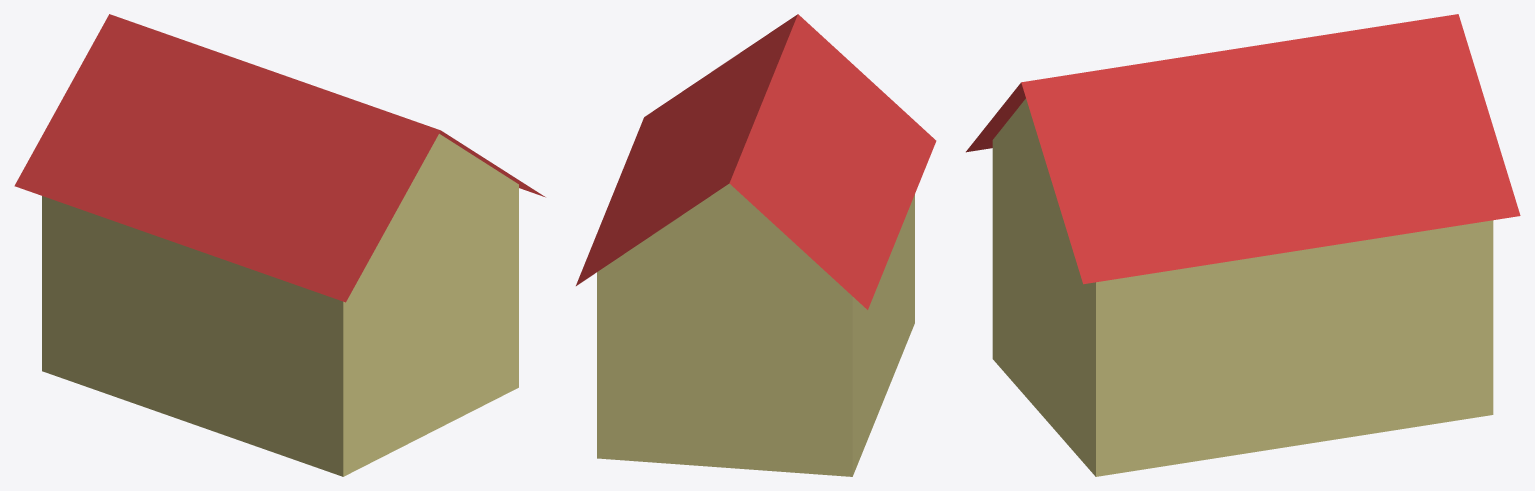
3 renders of one model, left to right at view 1: azimuth 30°, elevation 25°; view 2: azimuth 150°, elevation 25°; view 3: azimuth 270°, elevation 25°, orthographic. The views are drawn at different scales.
Size of the model in its own units: 16.91 by 19.54 by 13.02.
